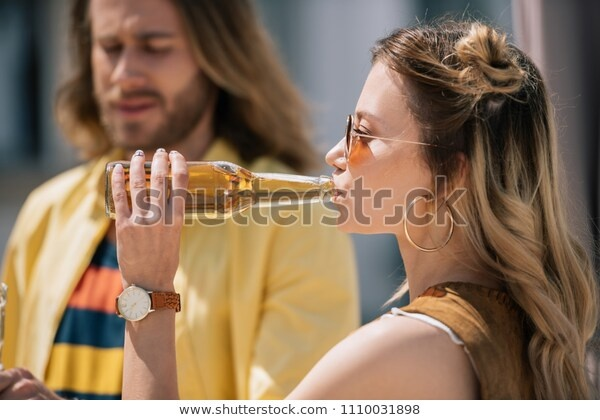beerBottle: (104, 160, 333, 215)
